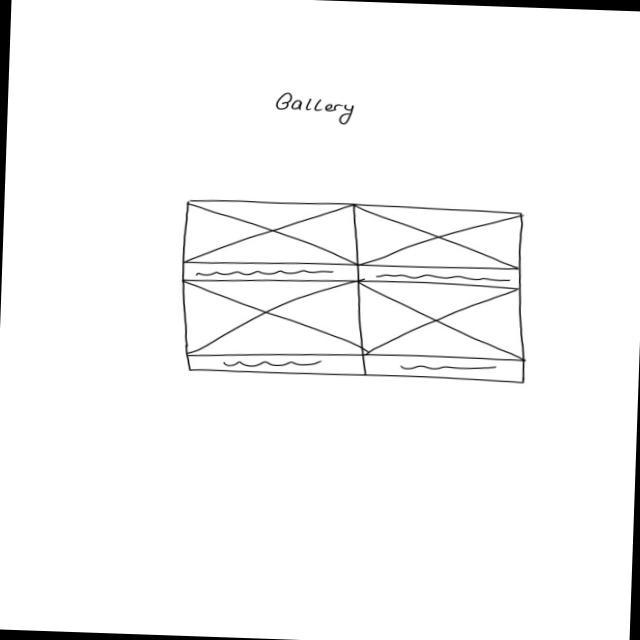container: (180, 257, 362, 289), (186, 349, 369, 379), (362, 353, 528, 386), (356, 262, 525, 289)
image: (178, 275, 367, 361), (357, 279, 528, 363), (182, 196, 364, 268), (348, 204, 527, 273)
label: (272, 91, 358, 127)
text: (193, 266, 338, 283), (222, 356, 323, 373), (373, 272, 513, 284), (399, 362, 504, 375)
